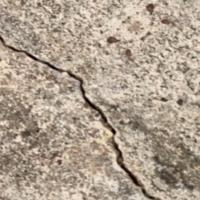crack: (0, 28, 168, 199)
